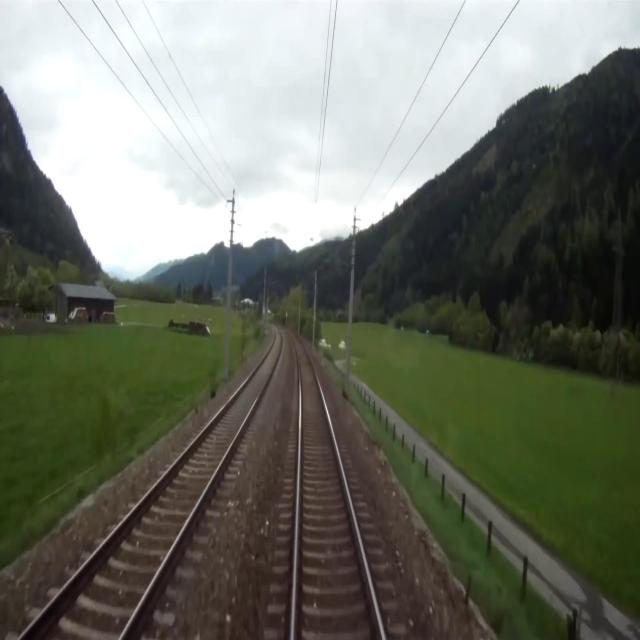rail-track: (23, 329, 280, 639), (288, 329, 381, 639)
